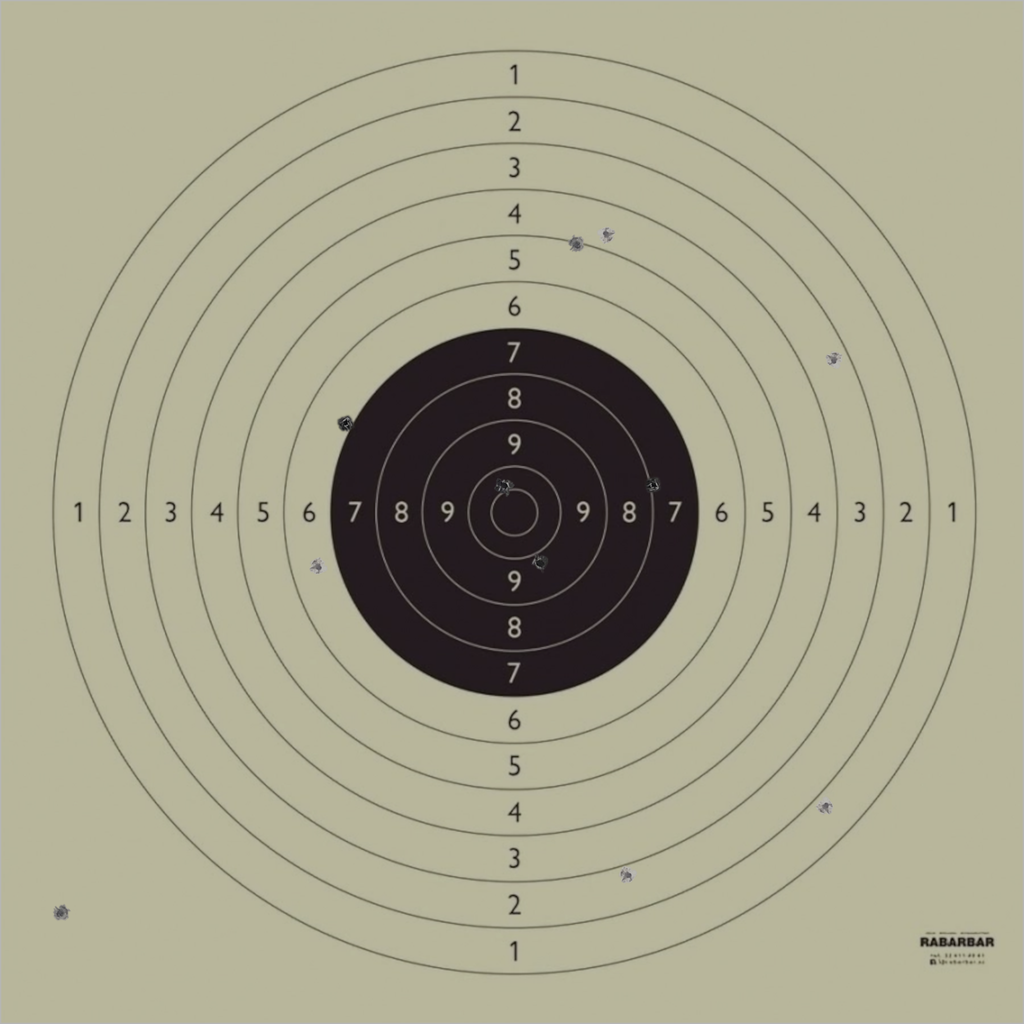0 punktow: (51, 904, 70, 922)
1 punkt: (817, 797, 835, 816)
10 punktow: (495, 476, 513, 495)
2 punkty: (619, 866, 637, 884)
3 punkty: (825, 351, 843, 369)
4 punkty: (597, 225, 616, 243)
5 punktow: (567, 235, 586, 254)
6 punktow: (309, 558, 327, 576)
7 punktow: (337, 413, 355, 432)
8 punktow: (645, 476, 663, 495)
9 punktow: (531, 554, 549, 572)
